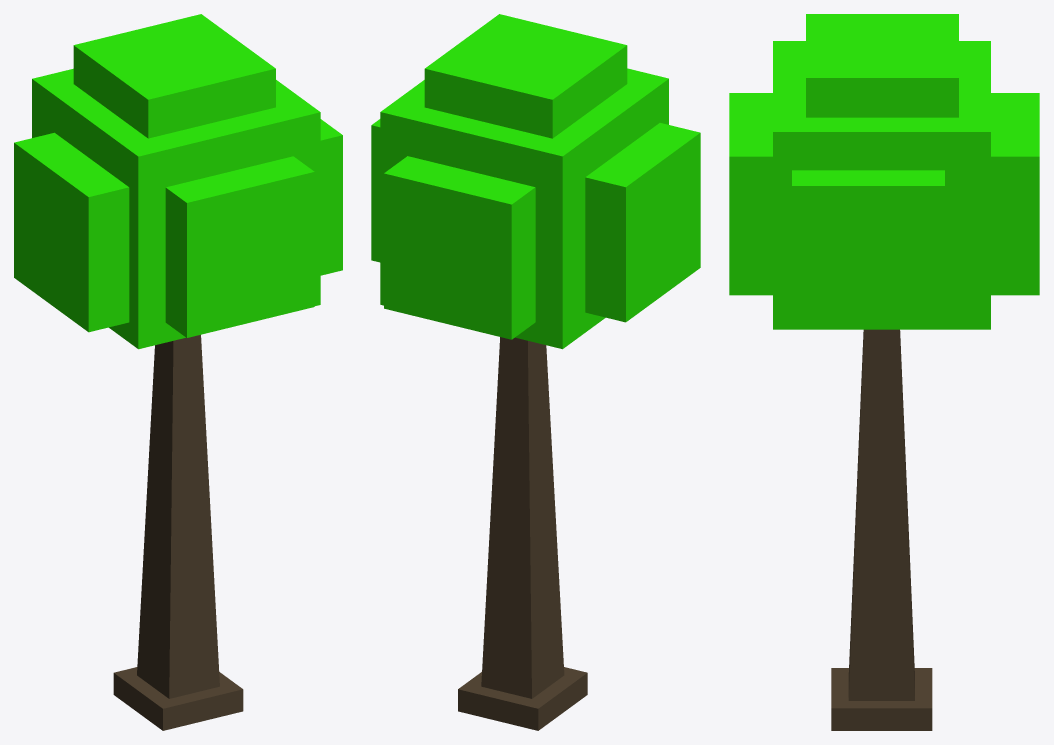
The model's file is tree2.FBX.
3 views of the same model, side by side, from view 1: azimuth 30°, elevation 25°; view 2: azimuth 150°, elevation 25°; view 3: azimuth 270°, elevation 25° (orthographic). The views are drawn at different scales.
Parts seen in each view (by area): view 1: tree2; view 2: tree2; view 3: tree2.
Part boxes in pixels (<box>): tree2: <box>14,14,342,730</box>; tree2: <box>371,14,700,730</box>; tree2: <box>729,14,1039,730</box>.
Bounding box in the file's own units: 4.63 × 11.26 × 4.78.
